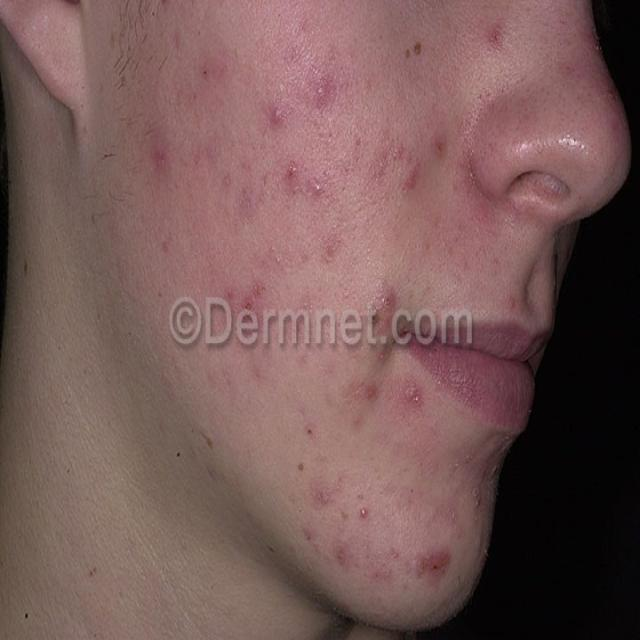Acne: (416, 544, 453, 580), (201, 46, 232, 84), (148, 135, 174, 177), (311, 72, 337, 111), (241, 276, 267, 314), (402, 377, 424, 412), (368, 152, 389, 188), (333, 540, 355, 574), (430, 125, 450, 162), (265, 101, 292, 128), (378, 281, 400, 314), (311, 478, 333, 511), (284, 157, 302, 193), (404, 158, 421, 195), (307, 172, 326, 205), (488, 18, 506, 52), (362, 376, 381, 407), (301, 416, 319, 444), (504, 290, 519, 316), (356, 500, 370, 523)
